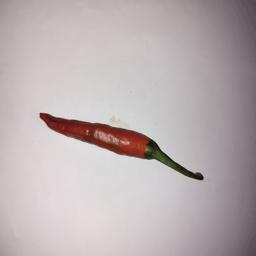Buah Cabai Sehat: (38, 110, 160, 164)
